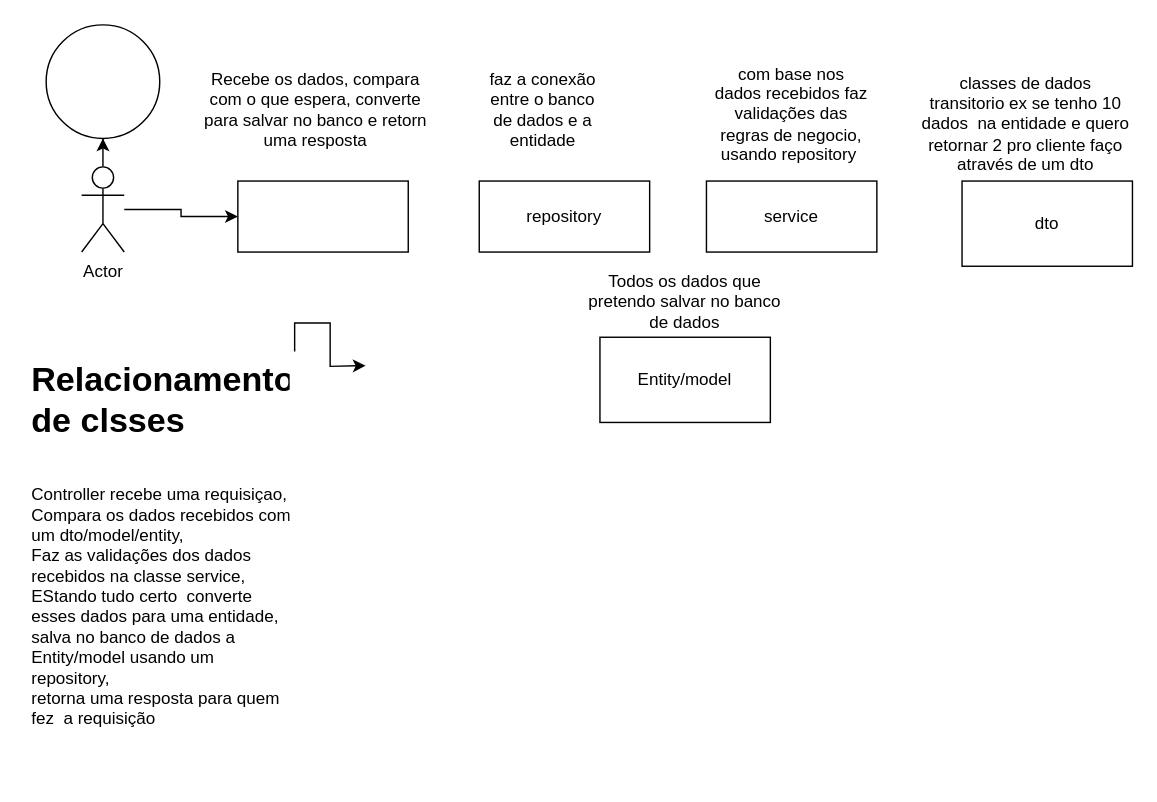
Some shapes in this 1157 by 802 pixel diagram are drawn without their labels. Here are the shapes that lost their labels. From the top down, the centre of each, then its label:
point 102,80: postman
point 322,216: Controller/resource
